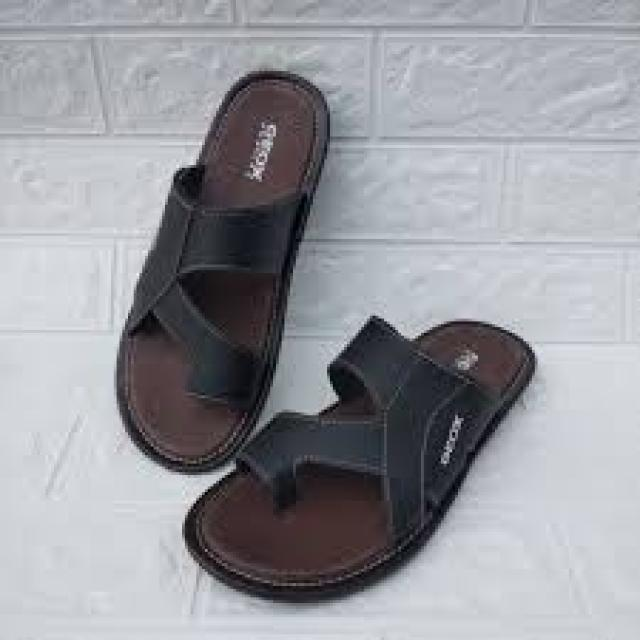Sandals: (37, 23, 606, 640)
